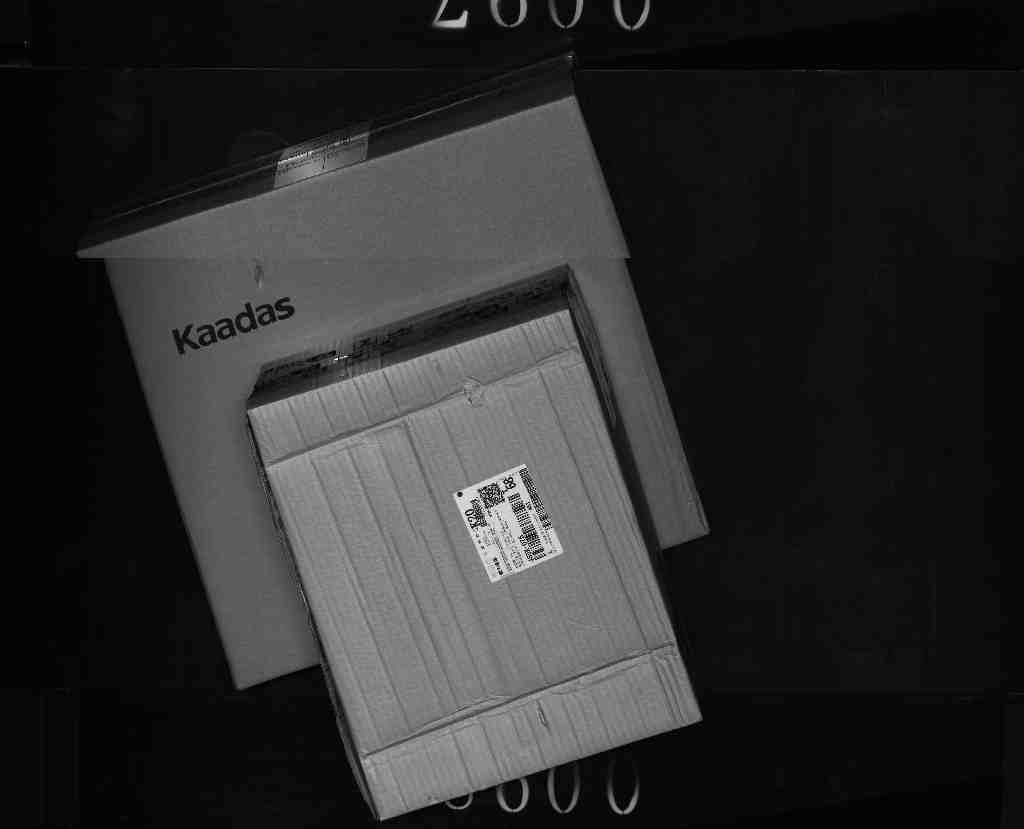box: (88, 47, 712, 685), (262, 315, 707, 824)
